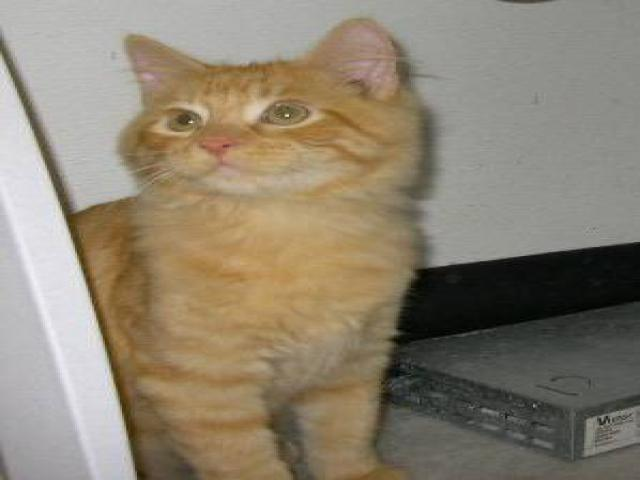cat: (79, 19, 439, 479)
